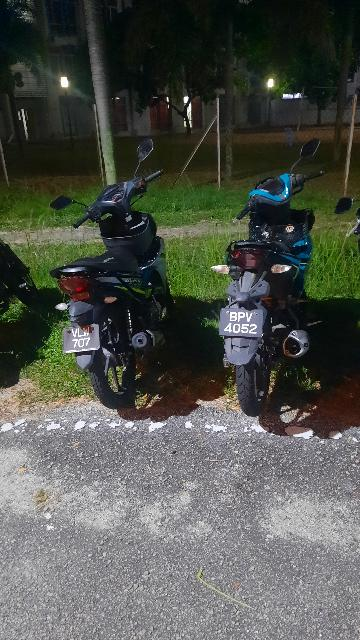License_Plate: (217, 302, 268, 346), (61, 320, 102, 359)
motorcycle: (202, 104, 331, 431), (50, 120, 183, 419)
